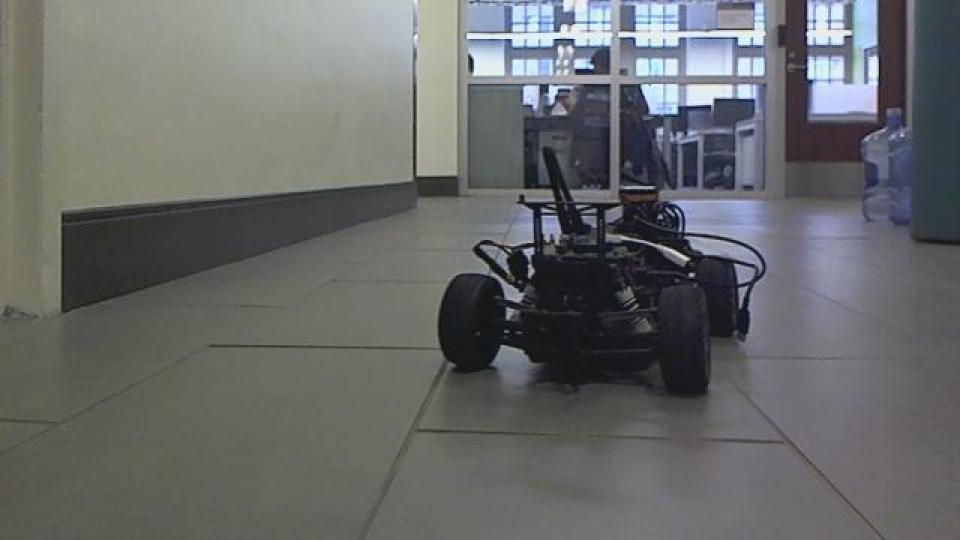car: (434, 142, 772, 403)
